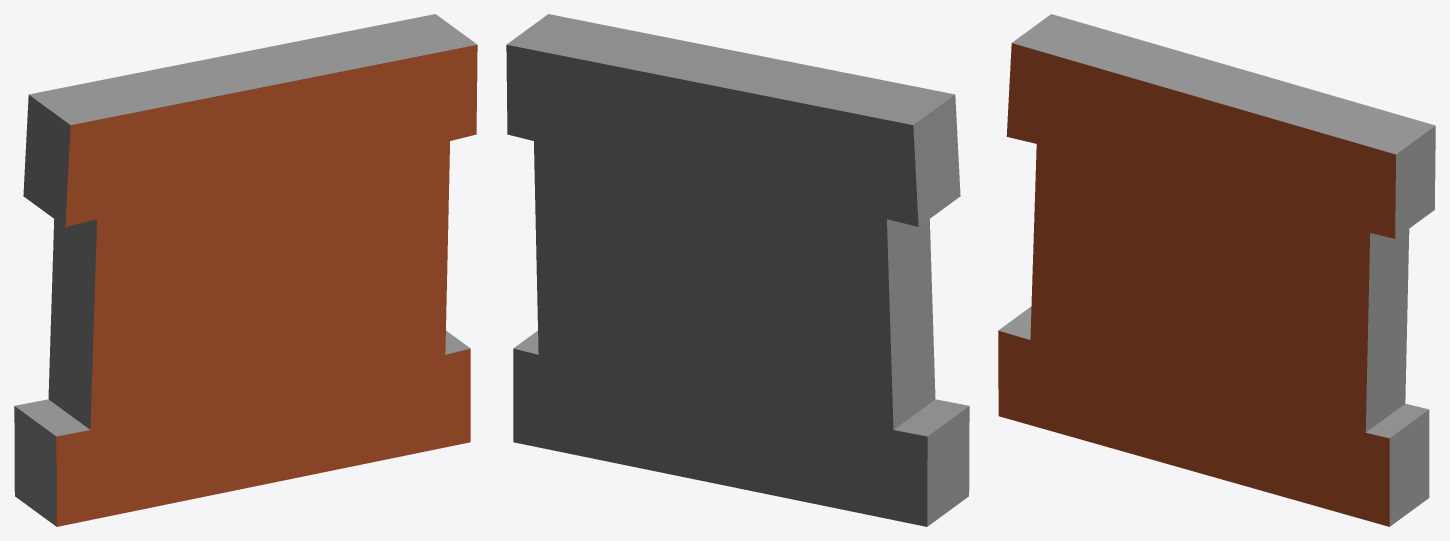
Rendered from construction_1260_assumed_A_Casa_h6m.obj.
3 renders of one model, left to right at view 1: azimuth 30°, elevation 25°; view 2: azimuth 150°, elevation 25°; view 3: azimuth 330°, elevation 25°, orthographic. The views are drawn at different scales.
Parts seen in each view (by area): view 1: construction_1260_assumed_A_Casa; view 2: construction_1260_assumed_A_Casa; view 3: construction_1260_assumed_A_Casa.
Part boxes in pixels (<box>): construction_1260_assumed_A_Casa: <box>14,14,477,526</box>; construction_1260_assumed_A_Casa: <box>506,14,969,526</box>; construction_1260_assumed_A_Casa: <box>998,14,1435,526</box>.
Size of the model in its own units: 34.77 by 32.71 by 6.
